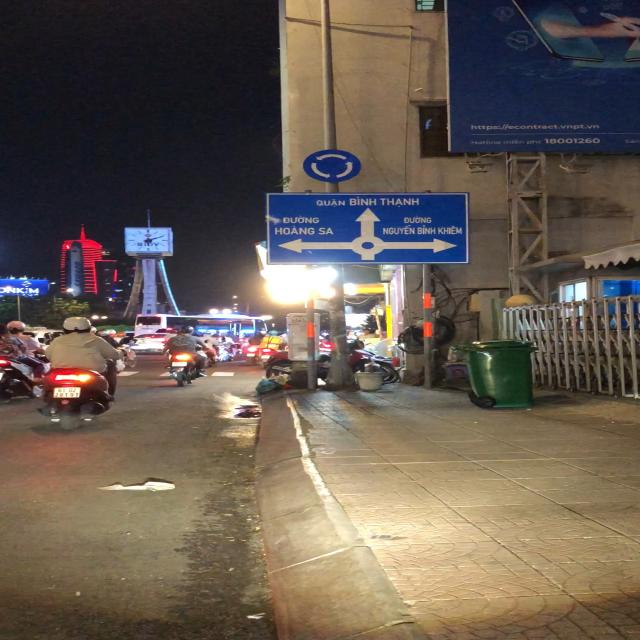Bien bao noi giao nhau chay theo vong xuyen: (302, 148, 365, 183)
